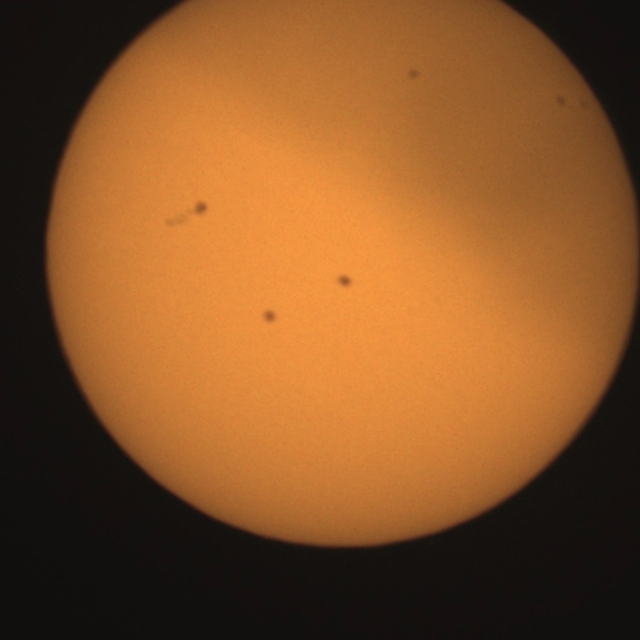sunspot: (160, 199, 210, 230), (554, 93, 590, 113), (191, 199, 210, 218), (335, 272, 354, 290), (260, 308, 278, 326), (406, 67, 422, 82), (555, 94, 567, 109)
